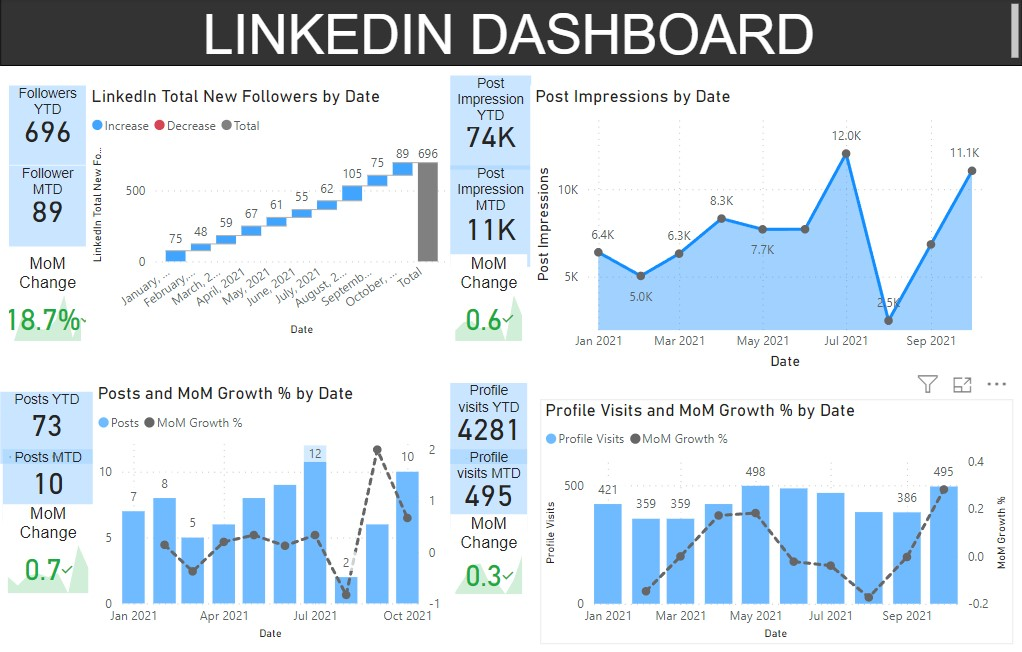

What the dashboard file says about the page in this screenshot:
{"tool":"powerbi","page":{"name":"Page 2","canvas":[1280,720],"ordinal":1},"visuals":[{"type":"card","title":"Followers YTD","fields":{"Values":["Sheet1.LinkedIn New Followers YTD"]},"box":[10,85.6,75.6,77.8],"z":0},{"type":"card","title":"Follower MTD","fields":{"Values":["Sheet1.LinkedIn New followers this month"]},"box":[10,163.3,75.6,78.9],"z":1000},{"type":"kpi","title":"MoM Change","fields":{"Indicator":["Sheet1.LinkedIn Followers MoM Growth %"],"TrendLine":["Sheet1.Date"],"Goal":["Sum(Measures table.Value)"]},"box":[10,250,75.6,90],"z":2000},{"type":"waterfallChart","fields":{"Category":["Sheet1.Date"],"Y":["Measures table.LinkedIn Total New Followers"]},"box":[85.6,85.6,358.9,250],"z":3000},{"type":"card","title":"Posts YTD","fields":{"Values":["Measures table.LinkedIn Posts YTD"]},"box":[1.1,385.6,91.1,70],"z":4000},{"type":"card","title":"Posts MTD","fields":{"Values":["Measures table.LinkedIn posts this month"]},"box":[3.3,441.1,88.9,71.1],"z":5000},{"type":"kpi","title":"MoM Change","fields":{"TrendLine":["Sheet1.Date"],"Goal":["Sum(Measures table.Value)"],"Indicator":["Measures table.LinkedIn posts MoM Growth %"]},"box":[3.3,495.6,88.9,92.2],"z":6000},{"type":"lineStackedColumnComboChart","fields":{"Y":["Measures table.LinkedIn Total Posts"],"Category":["Sheet1.Date"],"Y2":["Measures table.LinkedIn posts MoM Growth %"]},"box":[92.2,376.7,348.9,255.6],"z":7000},{"type":"card","title":"Post Impression YTD","fields":{"Values":["Measures table.LinkedIn Posts Impression YTD"]},"box":[441.1,75.6,78.9,92.2],"z":8000},{"type":"card","title":"Post Impression MTD","fields":{"Values":["Measures table.LinkedIn Post impressions this month"]},"box":[441.1,163.3,78.9,98.9],"z":9000},{"type":"kpi","title":"MoM Change","fields":{"TrendLine":["Sheet1.Date"],"Indicator":["Measures table.LinkedIn Post impression MoM Growth %"],"Goal":["Sum(Measures table.Value)"]},"box":[441.1,250,75.6,90],"z":10000},{"type":"card","title":"Profile visits YTD","fields":{"Values":["Measures table.LinkedIn Profile visits YTD"]},"box":[441.1,376.7,75.6,78.9],"z":11000},{"type":"card","title":"Profile visits MTD","fields":{"Values":["Measures table.LinkedIn profile visits this month"]},"box":[441.1,441.1,75.6,78.9],"z":12000},{"type":"kpi","title":"MoM Change","fields":{"TrendLine":["Sheet1.Date"],"Goal":["Sum(Measures table.Value)"],"Indicator":["Measures table.LinkedIn Profile visits MoM Growth %"]},"box":[441.1,504.4,75.6,83.3],"z":13000},{"type":"areaChart","fields":{"Category":["Sheet1.Date"],"Y":["Measures table.LinkedIn Total Post Impressions"]},"box":[520,85.6,462.2,282.2],"z":14000},{"type":"lineStackedColumnComboChart","fields":{"Category":["Sheet1.Date"],"Y":["Measures table.LinkedIn Total Profile Visits"],"Y2":["Measures table.LinkedIn Profile visits MoM Growth %"]},"box":[528.9,392.2,462.2,240],"z":15000},{"type":"textbox","box":[1.1,0,1001.1,66.7],"z":16000}]}

Visuals, with their boxes on the page's 1280x720 design canvas (x1, y1, x2, y2). These are canvas units, not pixel positions in the 1022x652 screenshot, which may show the page scaled, cropped or inside an application window:
"Followers YTD" card: x1=10, y1=86, x2=86, y2=163
"Follower MTD" card: x1=10, y1=163, x2=86, y2=242
"MoM Change" kpi: x1=10, y1=250, x2=86, y2=340
waterfallChart - Sheet1.Date x Measures table.LinkedIn Total New Followers: x1=86, y1=86, x2=444, y2=336
"Posts YTD" card: x1=1, y1=386, x2=92, y2=456
"Posts MTD" card: x1=3, y1=441, x2=92, y2=512
"MoM Change" kpi: x1=3, y1=496, x2=92, y2=588
lineStackedColumnComboChart - Measures table.LinkedIn Total Posts x Sheet1.Date: x1=92, y1=377, x2=441, y2=632
"Post Impression YTD" card: x1=441, y1=76, x2=520, y2=168
"Post Impression MTD" card: x1=441, y1=163, x2=520, y2=262
"MoM Change" kpi: x1=441, y1=250, x2=517, y2=340
"Profile visits YTD" card: x1=441, y1=377, x2=517, y2=456
"Profile visits MTD" card: x1=441, y1=441, x2=517, y2=520
"MoM Change" kpi: x1=441, y1=504, x2=517, y2=588
areaChart - Sheet1.Date x Measures table.LinkedIn Total Post Impressions: x1=520, y1=86, x2=982, y2=368
lineStackedColumnComboChart - Sheet1.Date x Measures table.LinkedIn Total Profile Visits: x1=529, y1=392, x2=991, y2=632
textbox: x1=1, y1=0, x2=1002, y2=67
